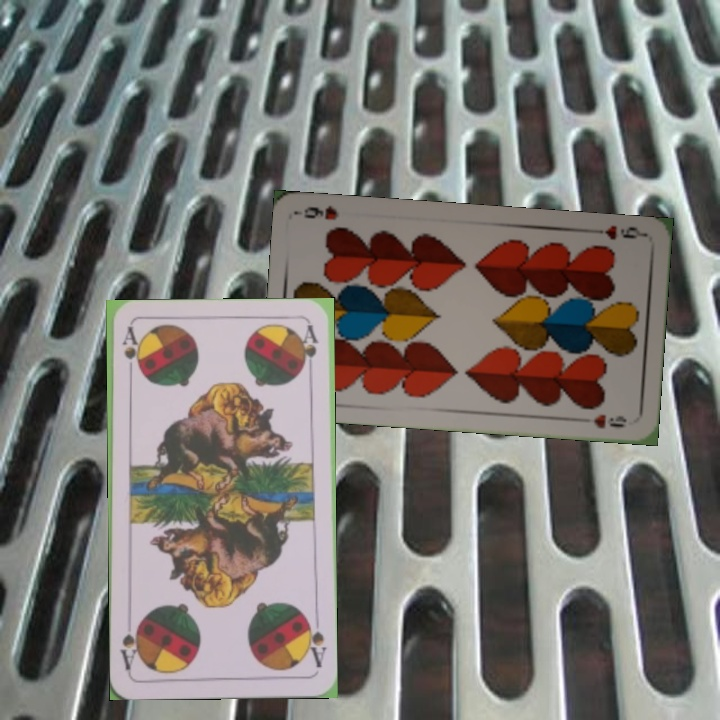H9: (587, 221, 646, 243)
SA: (302, 613, 329, 671), (118, 324, 140, 383)
